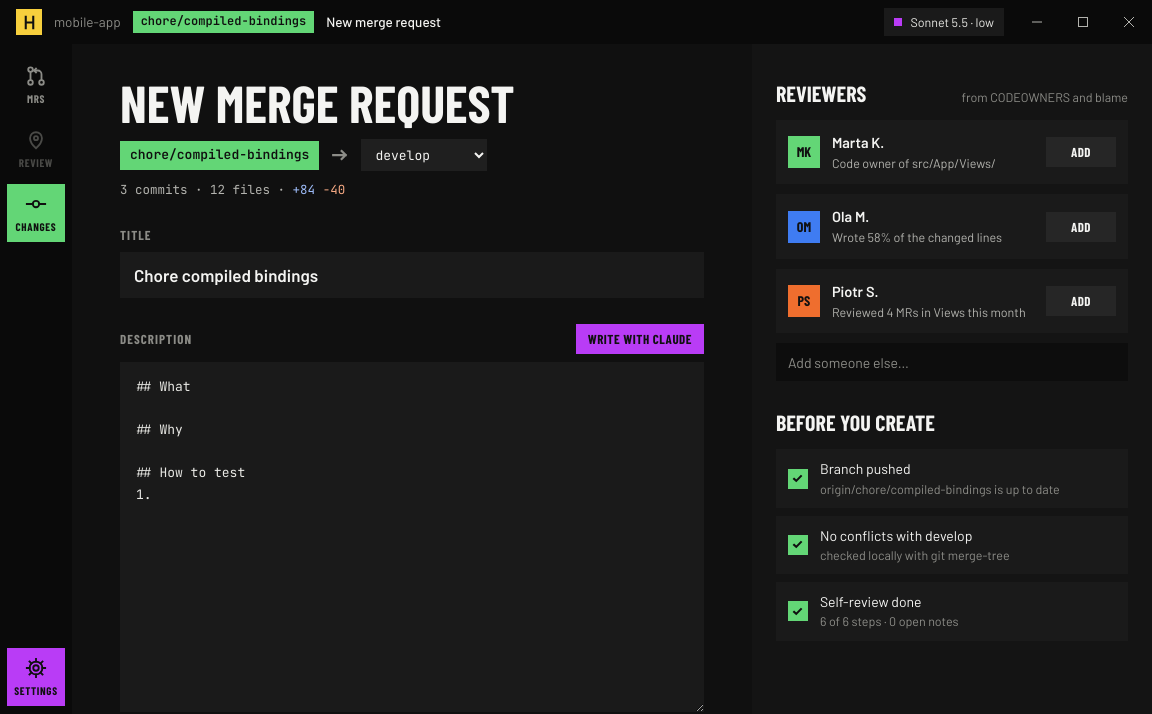
Test: S-11 created (F-27.6) › F-27.6 Reviewers notified names the people added, in the order of the list
Expected: the field labelled "Title" is not empty, 120,252 -> 704,298
Step 1. Click the button "Add" in the row of "Ola M." → (1081, 227), box 1046,212 -> 1116,242
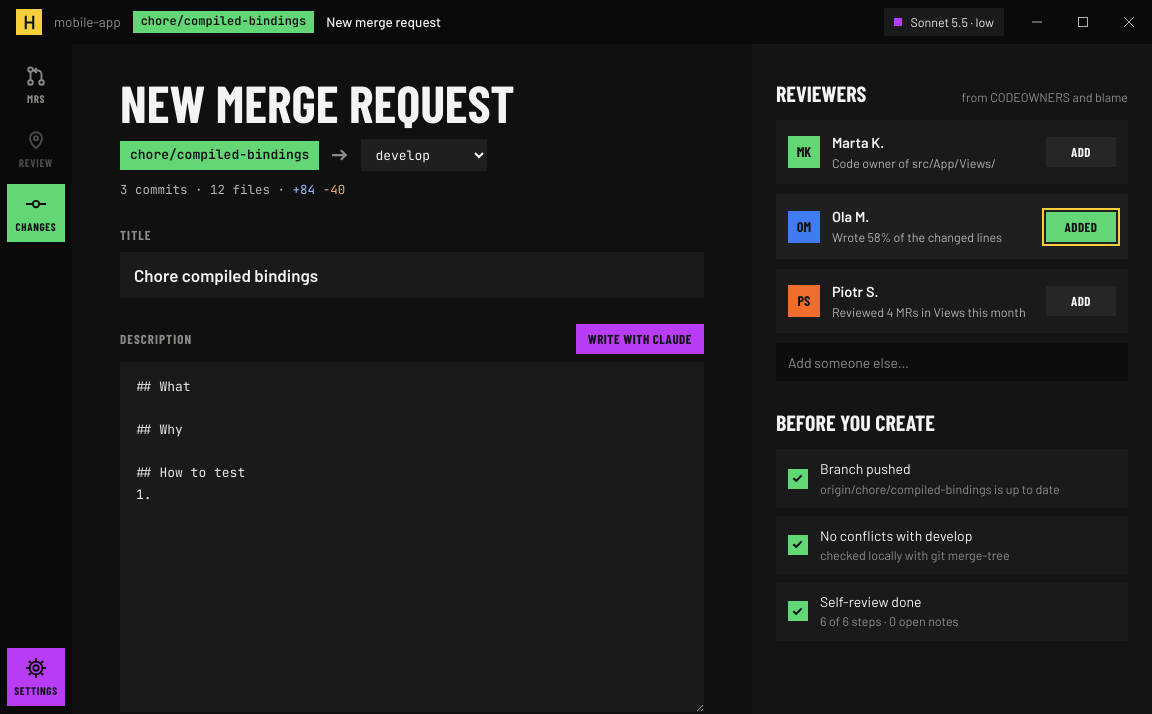
Step 2. Click the button "Add" in the row of "MK" → (1081, 152), box 1046,137 -> 1116,167
(page scrolled)
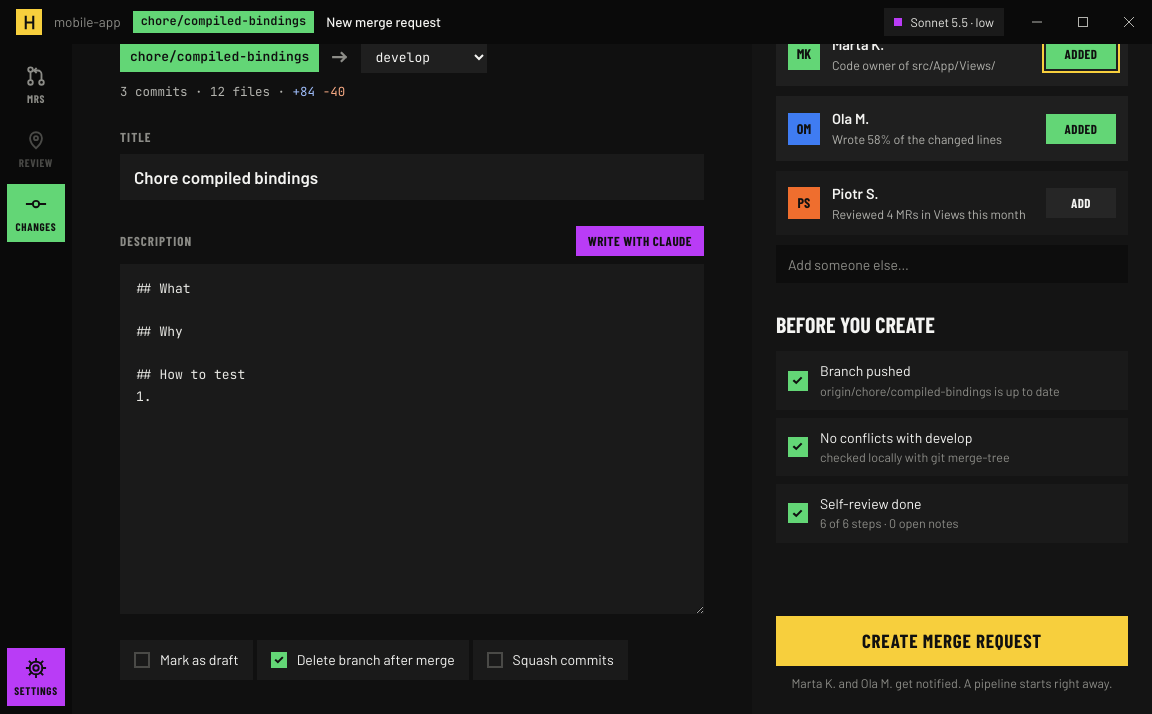
Step 3. Click the button "Create merge request" → (952, 641), box 776,616 -> 1128,666
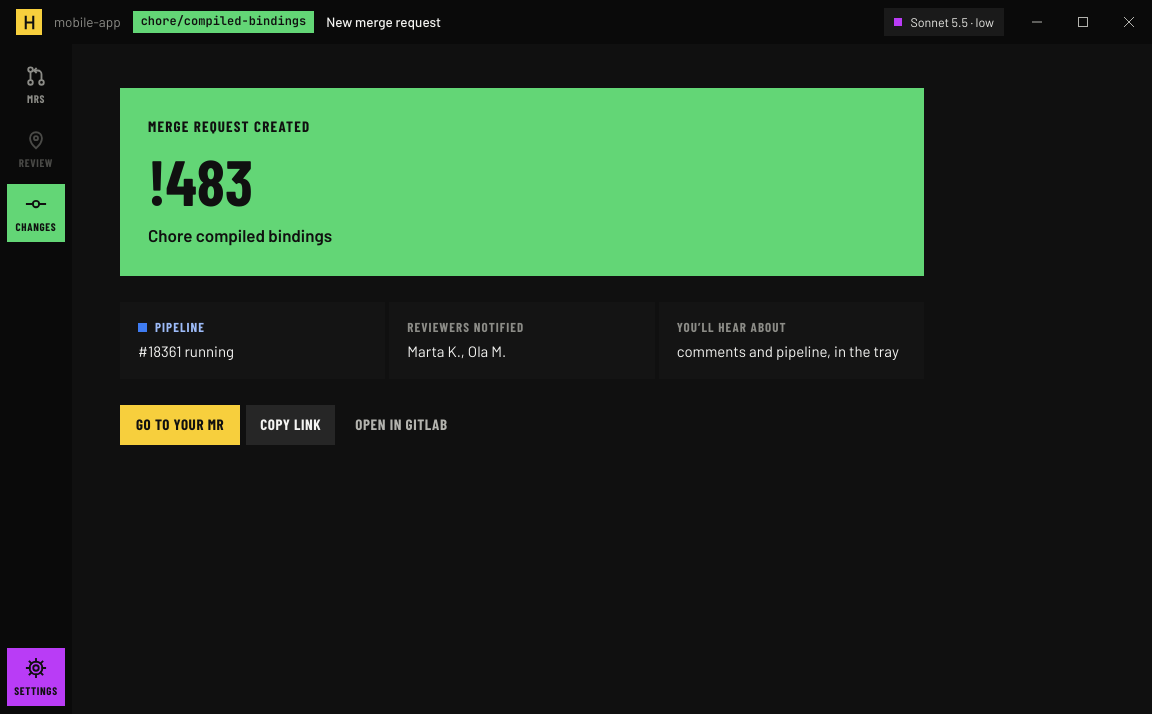
Expected: the text "Marta K., Ola M." is shown, 407,342 -> 506,360
